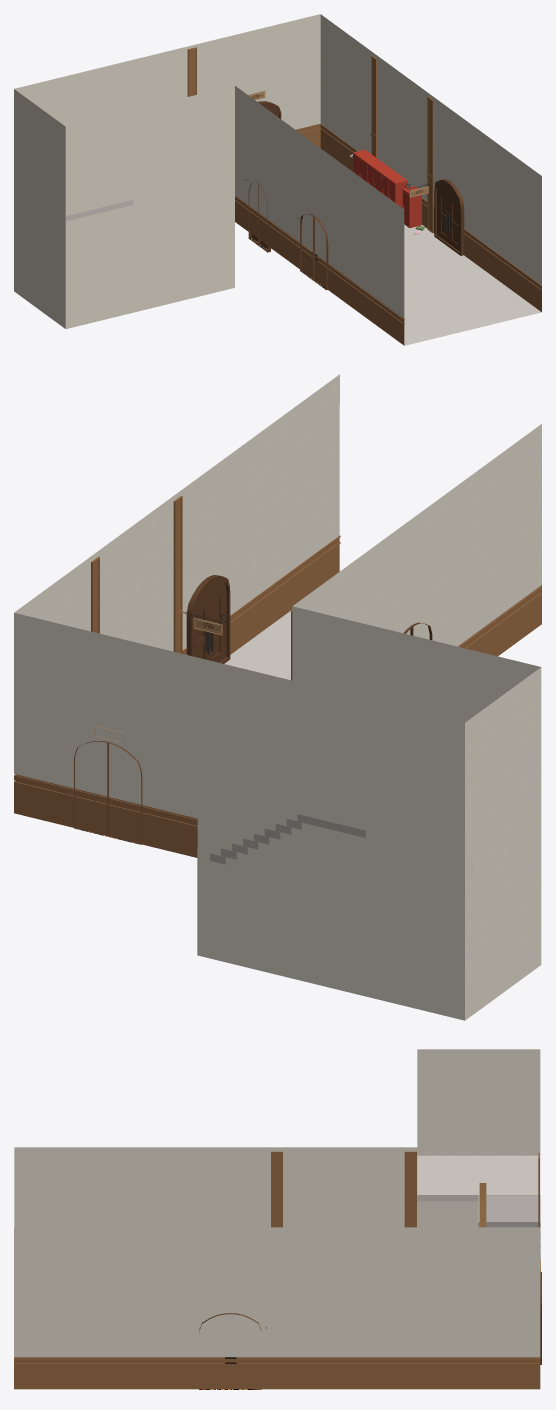
File: corridor3.fbx
3 views of the same model, one above another, from view 1: azimuth 30°, elevation 25°; view 2: azimuth 150°, elevation 25°; view 3: azimuth 270°, elevation 25° (orthographic). The views are drawn at different scales.
Parts seen in each view (by area): view 1: corrodor3; view 2: corrodor3; view 3: corrodor3.
Part boxes in pixels (<box>): corrodor3: <box>14,14,541,345</box>; corrodor3: <box>14,374,541,1020</box>; corrodor3: <box>14,1049,541,1389</box>.
Size of the model in its own units: 18.71 by 11.72 by 23.31.
Materials: 2 (2 with a texture image).
